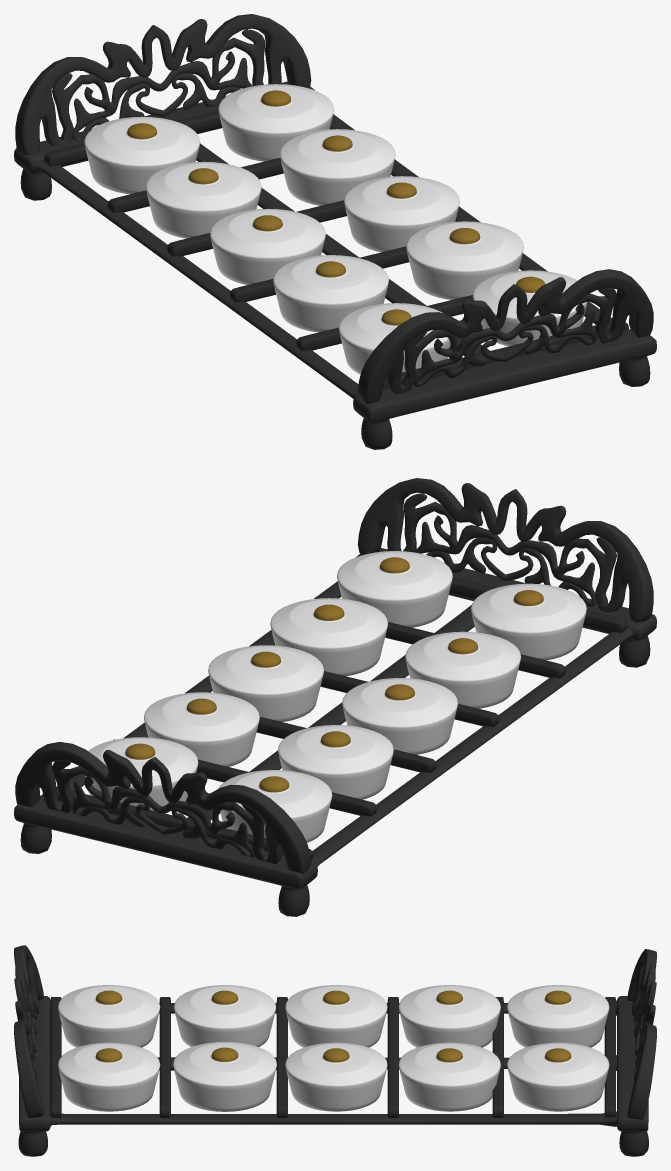
Rendered from gamelan.fbx.
3 views of the same model, one above another, from view 1: azimuth 30°, elevation 25°; view 2: azimuth 150°, elevation 25°; view 3: azimuth 270°, elevation 25° (orthographic). The views are drawn at different scales.
Visible parts, largest first — view 1: Cube.002, Cube.001, Cube, Cube.003, Circle.003, Circle.004, Circle.007, Circle.008, Circle.006, Circle.009, Circle.010, Circle.005 (+2 smaller); view 2: Cube.002, Cube, Cube.001, Cube.003, Circle.003, Circle.002, Circle.001, Circle.005, Circle.006, Circle.004, Circle.007, Circle.008 (+2 smaller); view 3: Cube.002, Cube.003, Circle.003, Circle.001, Circle.009, Circle.005, Circle.007, Circle.010, Circle.006, Circle.002, Circle.008, Circle.004 (+2 smaller).
Boxes of the visible parts, bbox=[...] form: Cube.002: bbox=[14, 81, 656, 449]; Cube.001: bbox=[15, 14, 311, 155]; Cube: bbox=[358, 269, 653, 403]; Cube.003: bbox=[44, 111, 628, 389]; Circle.003: bbox=[406, 221, 523, 299]; Circle.004: bbox=[273, 255, 388, 332]; Circle.007: bbox=[279, 129, 395, 205]; Circle.008: bbox=[145, 161, 261, 238]; Circle.006: bbox=[210, 208, 325, 284]; Circle.009: bbox=[218, 84, 334, 161]; Circle.010: bbox=[84, 116, 200, 194]; Circle.005: bbox=[344, 176, 459, 252]; Cube.002: bbox=[14, 548, 656, 916]; Cube: bbox=[357, 478, 653, 622]; Cube.001: bbox=[15, 742, 311, 874]; Cube.003: bbox=[42, 577, 627, 859]; Circle.003: bbox=[270, 598, 387, 676]; Circle.002: bbox=[471, 583, 586, 660]; Circle.001: bbox=[337, 551, 452, 627]; Circle.005: bbox=[208, 645, 323, 722]; Circle.006: bbox=[342, 678, 457, 754]; Circle.004: bbox=[405, 631, 521, 708]; Circle.007: bbox=[144, 692, 259, 766]; Circle.008: bbox=[278, 725, 393, 799]; Cube.002: bbox=[18, 996, 648, 1156]; Cube.003: bbox=[50, 997, 615, 1117]; Circle.003: bbox=[173, 1042, 276, 1111]; Circle.001: bbox=[58, 1042, 160, 1111]; Circle.009: bbox=[507, 1042, 609, 1111]; Circle.005: bbox=[285, 1042, 387, 1111]; Circle.007: bbox=[398, 1042, 500, 1111]; Circle.010: bbox=[507, 985, 609, 1047]; Circle.006: bbox=[285, 985, 387, 1047]; Circle.002: bbox=[58, 985, 160, 1047]; Circle.008: bbox=[398, 985, 500, 1047]; Circle.004: bbox=[174, 985, 275, 1046].
Size of the model in its own units: 805 by 366 by 1765.
